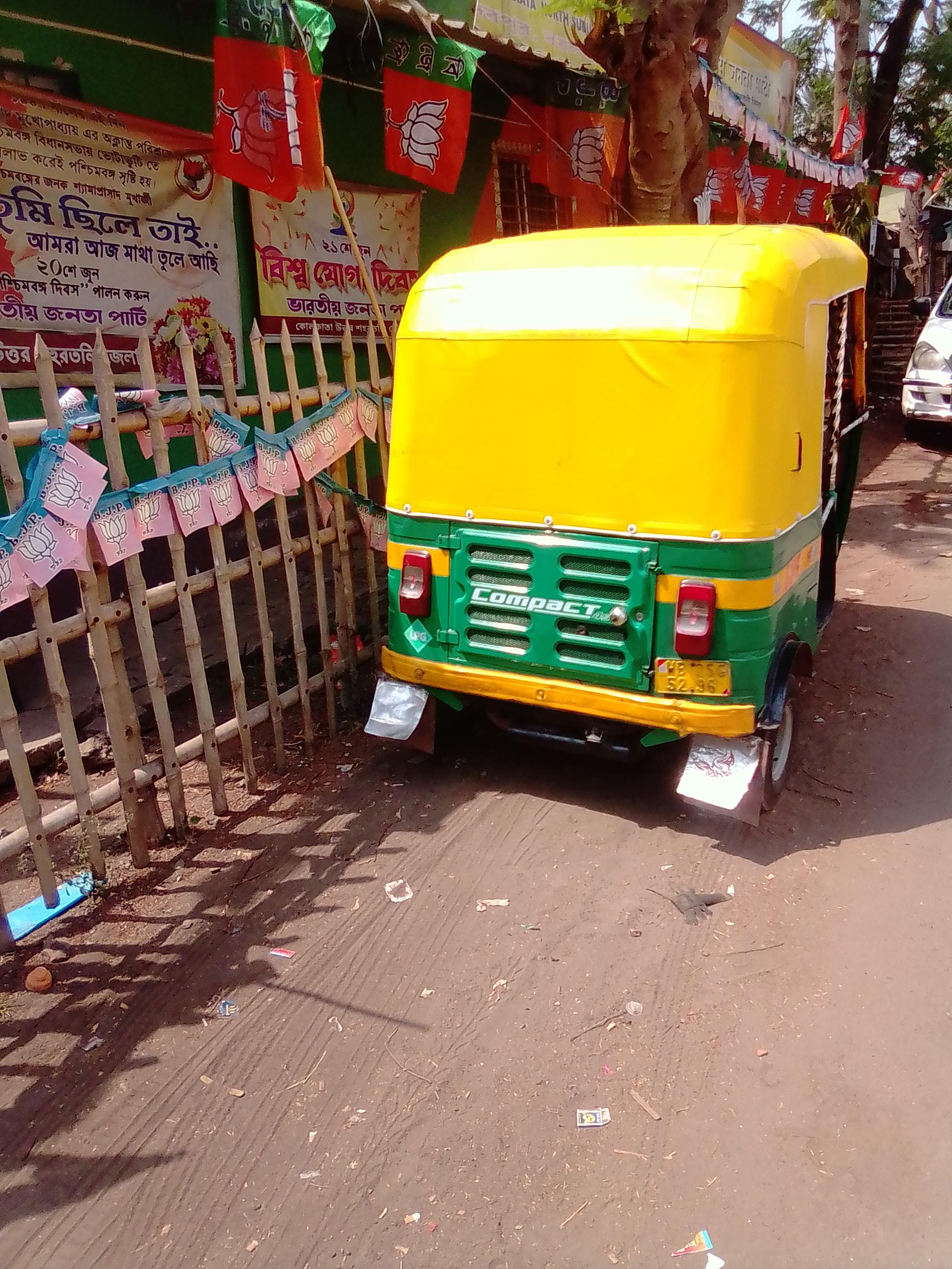Non-emergency: (349, 150, 939, 949)
